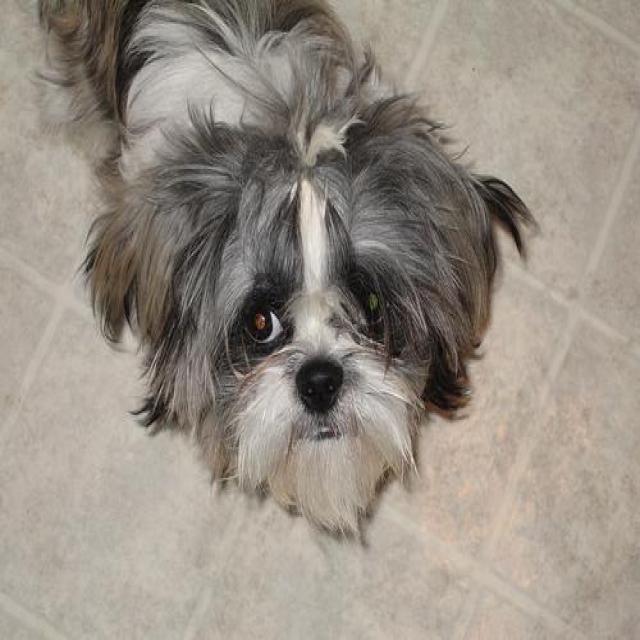shih_tzu: (35, 2, 542, 548)
